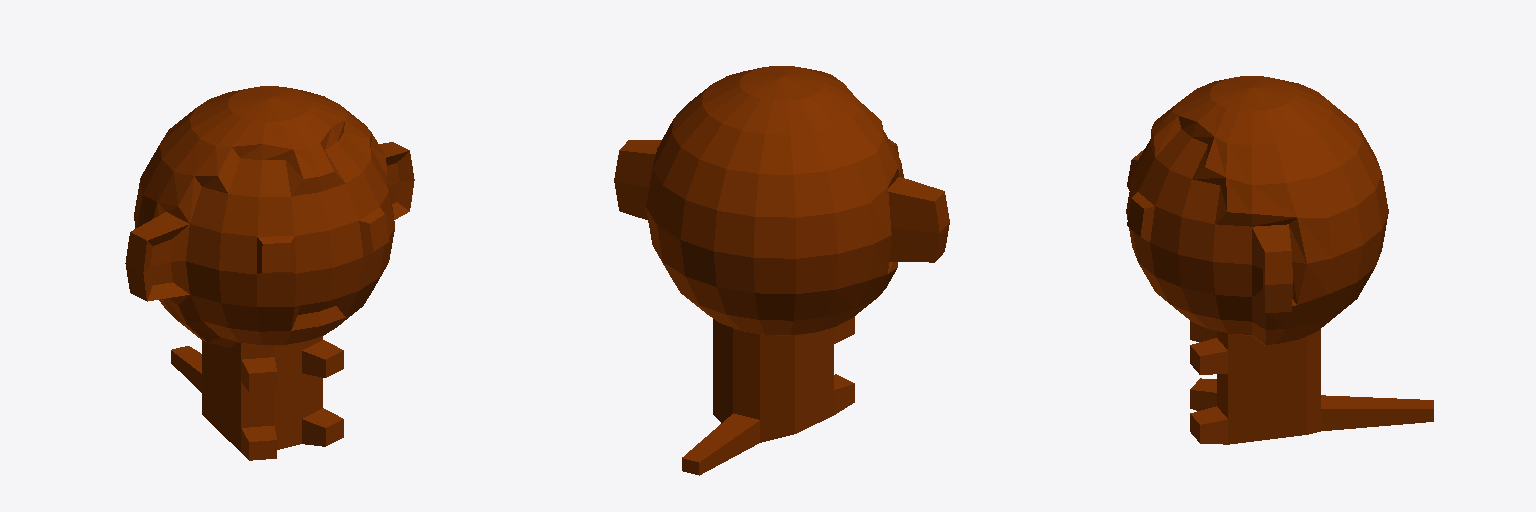
The model's file is monkey.obj.
3 renders of one model, left to right at view 1: azimuth 30°, elevation 25°; view 2: azimuth 150°, elevation 25°; view 3: azimuth 270°, elevation 25°, orthographic.
Visible parts, largest first — view 1: Sphere001, Box001; view 2: Sphere001, Box001; view 3: Sphere001, Box001.
Part boxes in pixels (x1,y1,x2,y2): Sphere001: (125,86,414,347); Box001: (171,336,343,460); Sphere001: (614,66,949,335); Box001: (682,316,854,475); Sphere001: (1126,76,1388,345); Box001: (1190,321,1433,444).
Bounding box in the file's own units: 2.77 × 2.95 × 2.45.